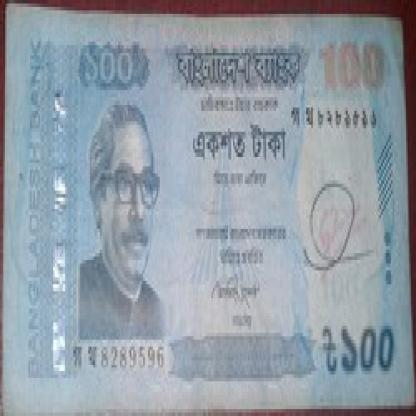one hundred taka: (313, 28, 391, 100), (73, 31, 150, 94), (336, 315, 403, 378)
